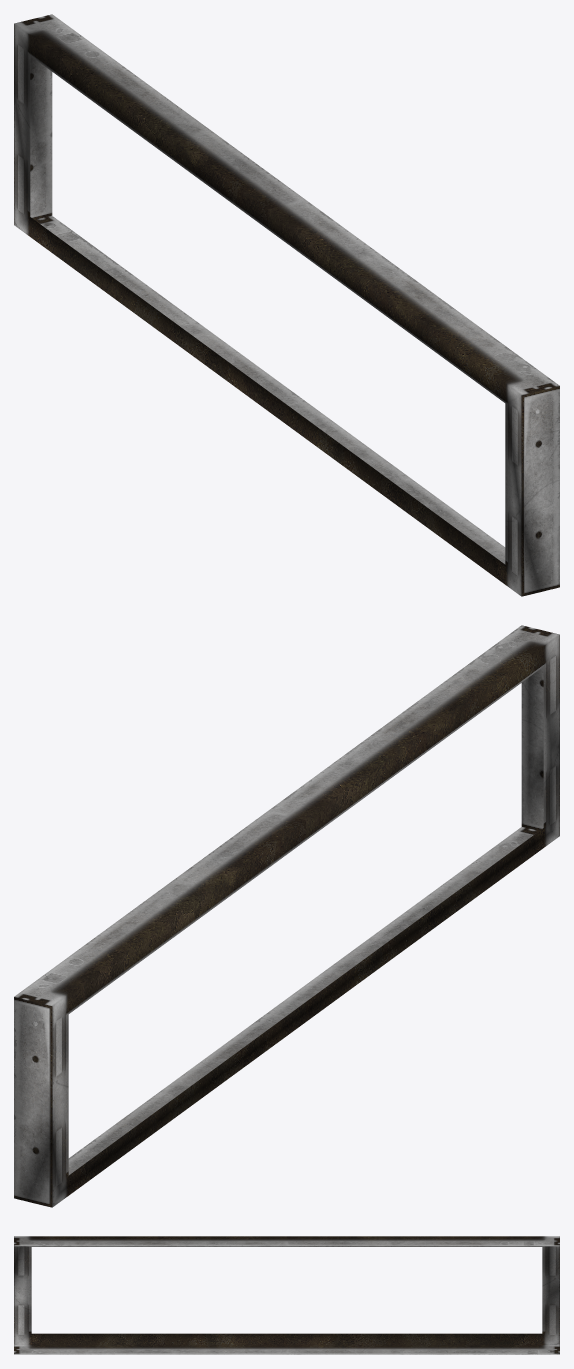
Rendered from Light_Fixture_Base_low.obj.
3 renders of one model, top to bottom at view 1: azimuth 30°, elevation 25°; view 2: azimuth 150°, elevation 25°; view 3: azimuth 270°, elevation 25°, orthographic. The views are drawn at different scales.
Bounding box in the file's own units: 0.0398 × 0.1999 × 0.9128.
